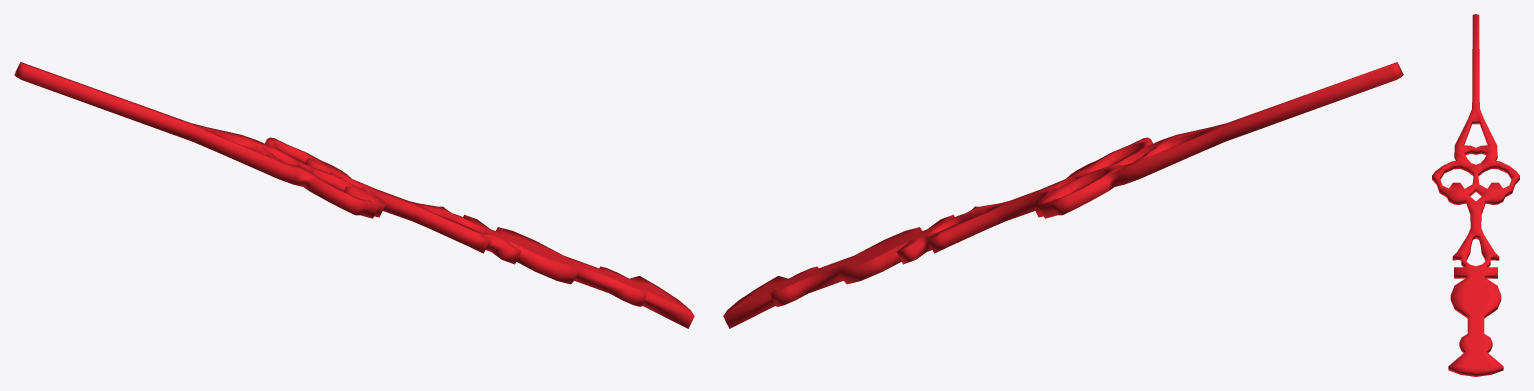
Rendered from M_Aiguilles_Minutes_Horloge_Centrale.fbx.
3 views of the same model, side by side, from view 1: azimuth 30°, elevation 25°; view 2: azimuth 150°, elevation 25°; view 3: azimuth 270°, elevation 25° (orthographic). The views are drawn at different scales.
Parts seen in each view (by area): view 1: Aiguilles_Minutes; view 2: Aiguilles_Minutes; view 3: Aiguilles_Minutes.
Part boxes in pixels (x1=…): Aiguilles_Minutes: x1=14, y1=62, x2=694, y2=328; Aiguilles_Minutes: x1=723, y1=62, x2=1403, y2=328; Aiguilles_Minutes: x1=1432, y1=14, x2=1519, y2=376.
Bounding box in the file's own units: 17.25 × 10.15 × 3.96.
